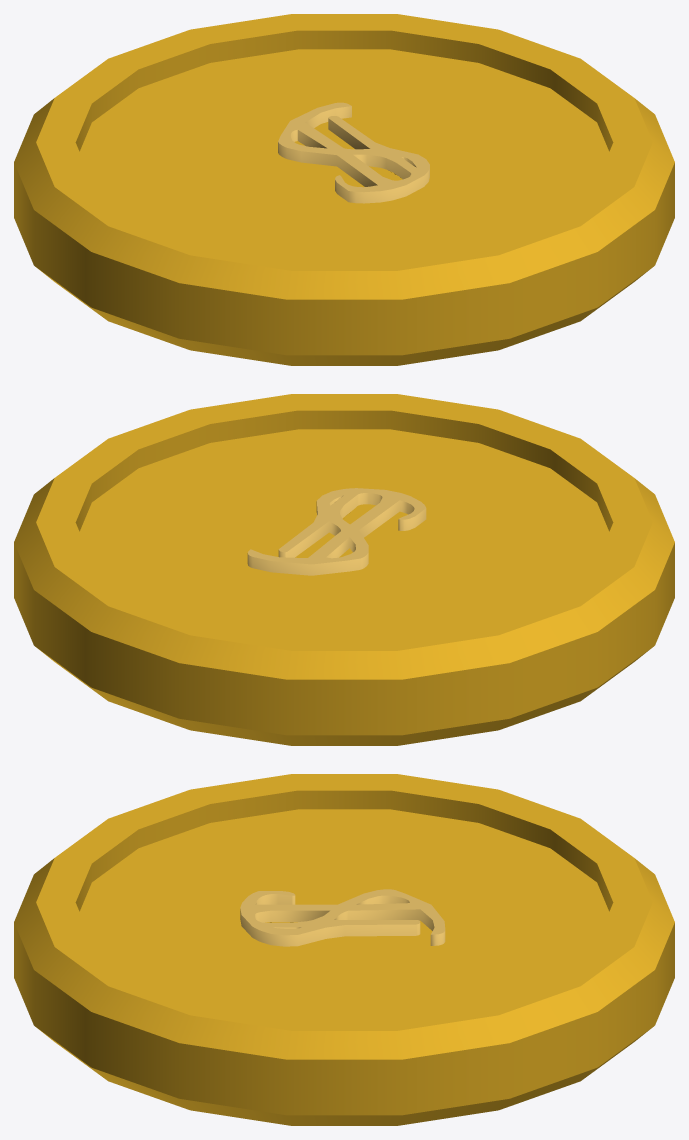
3 views of the same model, one above another, from view 1: azimuth 30°, elevation 25°; view 2: azimuth 150°, elevation 25°; view 3: azimuth 270°, elevation 25° (orthographic).
Parts seen in each view (by area): view 1: Coin_new, Dollar_Sign; view 2: Coin_new, Dollar_Sign; view 3: Coin_new, Dollar_Sign.
Boxes of the visible parts, box(x1,y1,x2,y2) form: Coin_new: box(14, 14, 674, 365); Dollar_Sign: box(278, 102, 429, 203); Coin_new: box(14, 394, 674, 745); Dollar_Sign: box(247, 488, 426, 575); Coin_new: box(14, 774, 674, 1125); Dollar_Sign: box(240, 889, 445, 946).
Bounding box in the file's own units: 1.97 × 0.3174 × 2.
